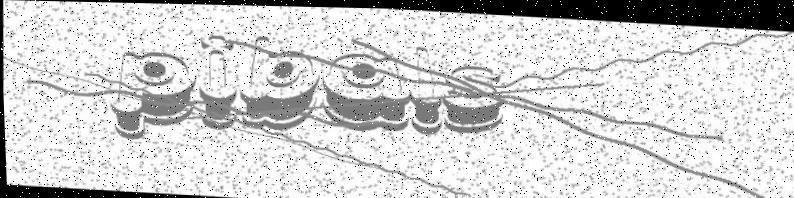a: (319, 46, 413, 133)
b: (235, 30, 325, 135)
i: (190, 25, 242, 136)
l: (404, 43, 450, 136)
p: (105, 43, 199, 147)
s: (438, 50, 514, 133)
